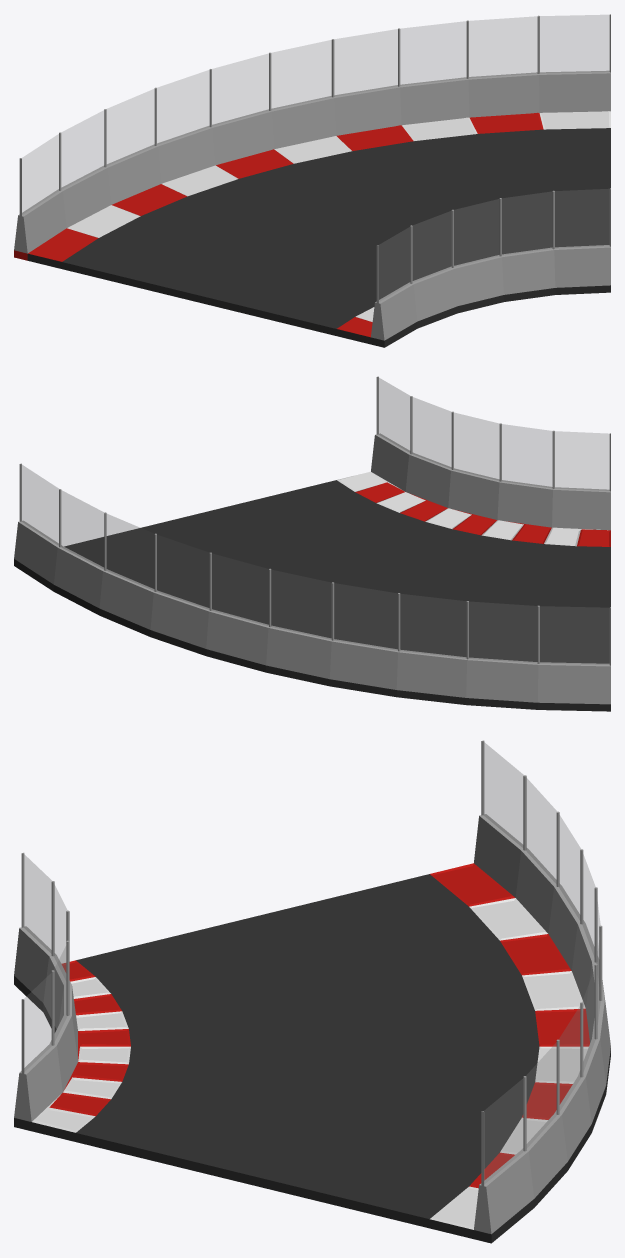
The model's file is track_curve_right_borders.glb.
3 views of the same model, one above another, from view 1: azimuth 30°, elevation 25°; view 2: azimuth 150°, elevation 25°; view 3: azimuth 270°, elevation 25° (orthographic). The views are drawn at different scales.
Parts seen in each view (by area): view 1: CurveRight.001; view 2: CurveRight.001; view 3: CurveRight.001.
Part boxes in pixels (x1=…): CurveRight.001: x1=14, y1=14, x2=610, y2=347; CurveRight.001: x1=14, y1=376, x2=610, y2=711; CurveRight.001: x1=14, y1=740, x2=610, y2=1243.
Size of the model in its own units: 17.4 by 2.8 by 11.69.
